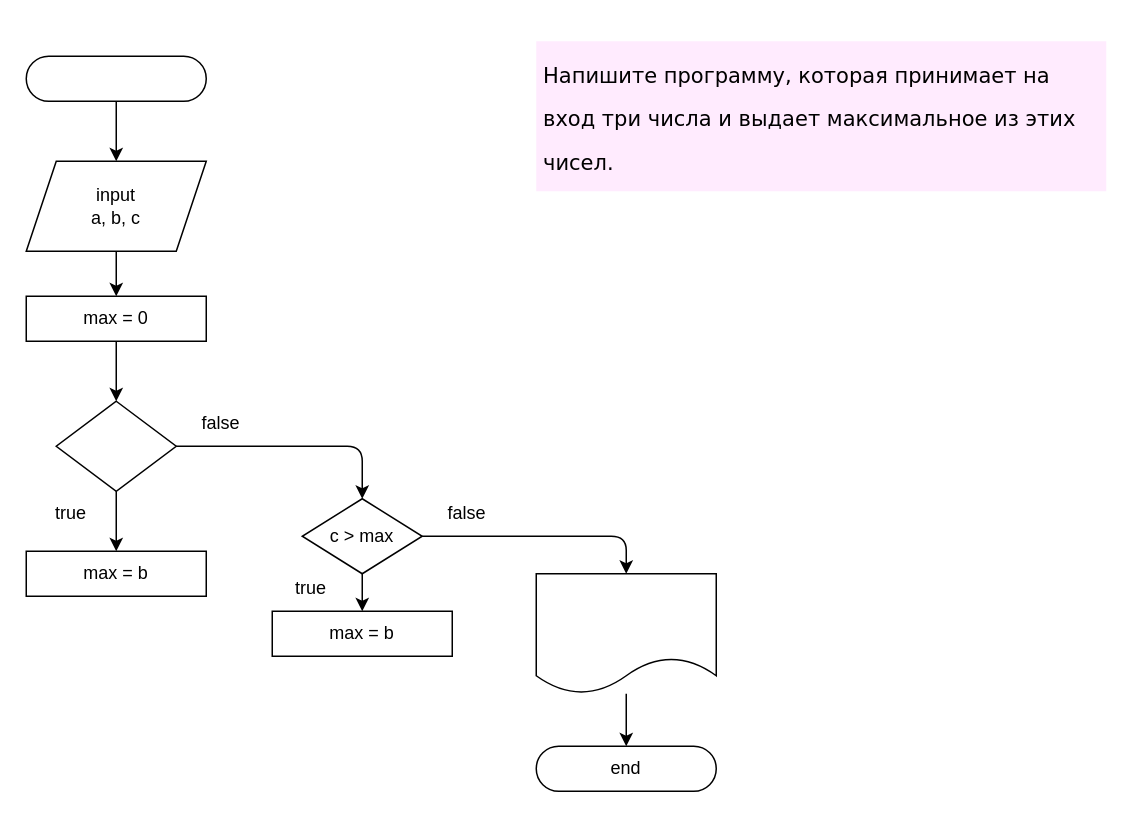
The diagram is 1133 pixels wide and 818 high, and some of its shapes have lost their labels. The centre of each missing label's shape, as x and y in pixels:
"b > max" belongs at (x=115, y=445).
"output max" belongs at (x=625, y=633).
"Start" belongs at (x=115, y=78).
